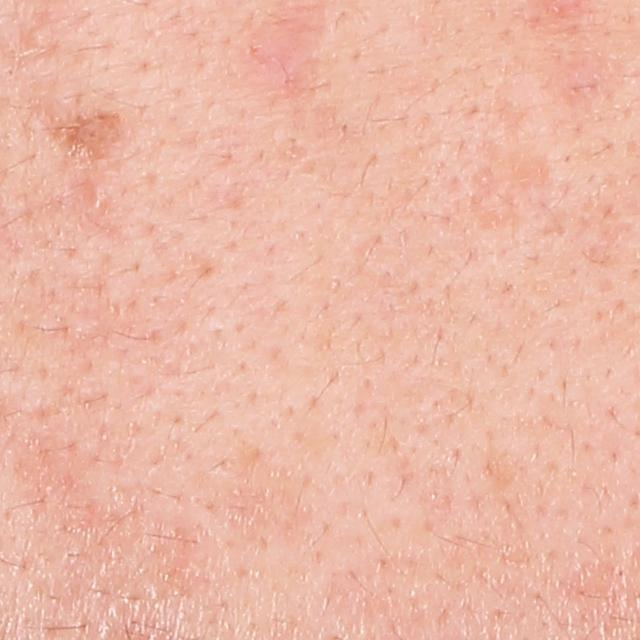comedo: (22, 24, 53, 53)
